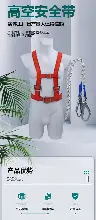safety belt: (29, 49, 67, 105)
